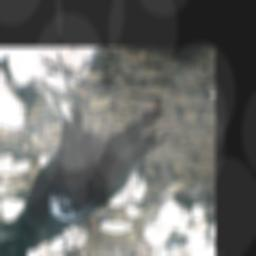Crow: (0, 53, 168, 256)
